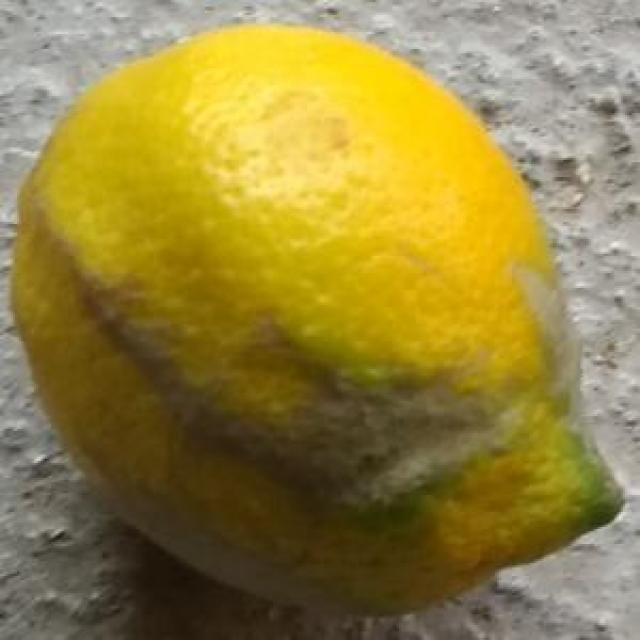lemon: (16, 25, 626, 617)
